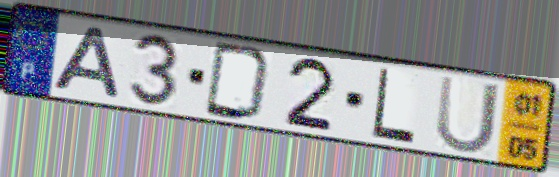2: (282, 56, 337, 135)
3: (124, 30, 184, 111)
A: (48, 24, 124, 103)
D: (201, 39, 275, 124)
L: (369, 65, 418, 147)
U: (433, 72, 503, 156)
